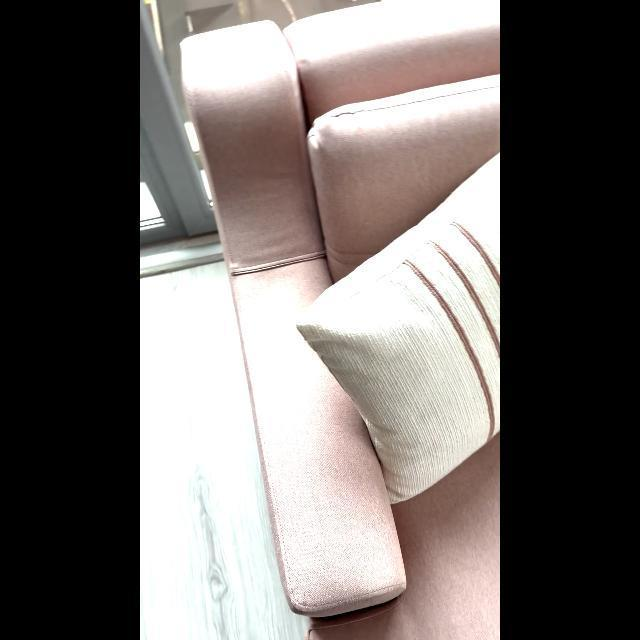throw pillow: (280, 138, 500, 512)
